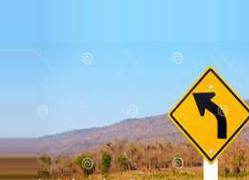left: (167, 65, 249, 163)
